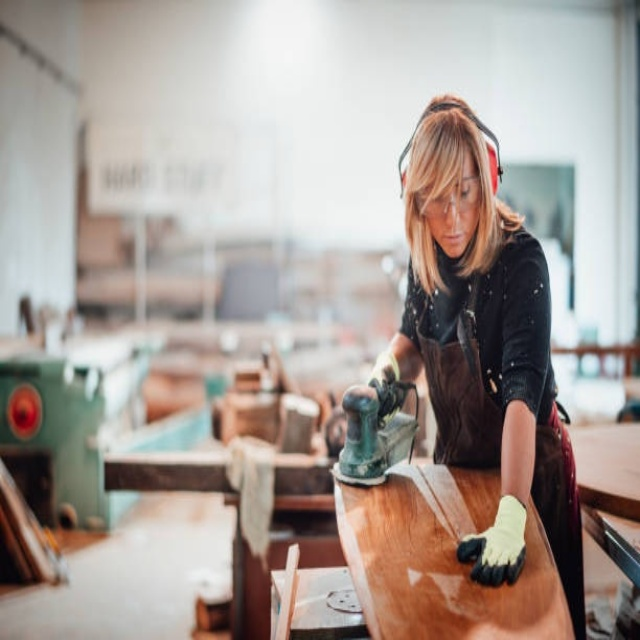Gafas: (420, 176, 481, 224)
Guantes: (455, 494, 527, 585), (366, 349, 401, 420)
Sin_mascara: (439, 226, 471, 256)
